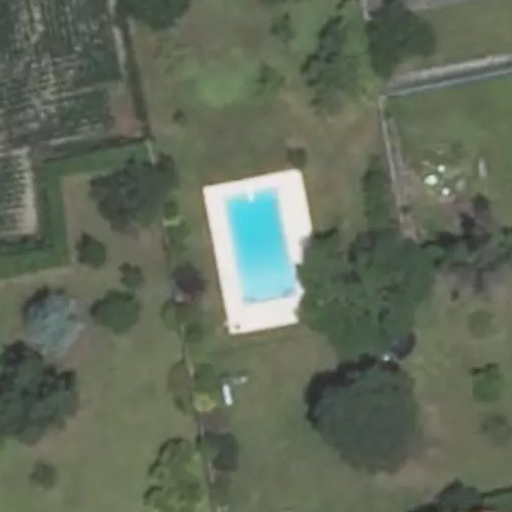pool: (216, 191, 296, 291)
